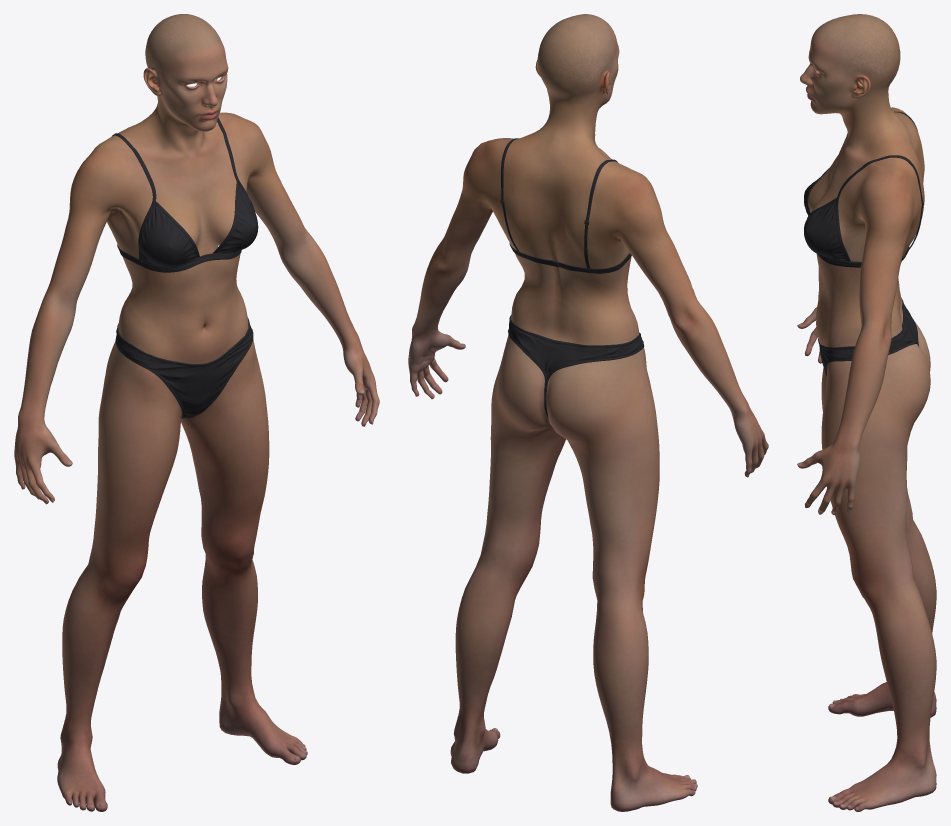
File: skin.glb
3 views of the same model, side by side, from view 1: azimuth 30°, elevation 25°; view 2: azimuth 150°, elevation 25°; view 3: azimuth 270°, elevation 25° (orthographic). The views are drawn at different scales.
Parts seen in each view (by area): view 1: Body_m, Female_Clothes_m; view 2: Body_m, Female_Clothes_m; view 3: Body_m, Female_Clothes_m.
Part boxes in pixels (x1=…): Body_m: x1=14, y1=14, x2=379, y2=811; Female_Clothes_m: x1=111, y1=117, x2=258, y2=418; Body_m: x1=408, y1=14, x2=768, y2=811; Female_Clothes_m: x1=500, y1=138, x2=644, y2=418; Body_m: x1=797, y1=14, x2=936, y2=811; Female_Clothes_m: x1=804, y1=111, x2=923, y2=376.
Size of the model in its own units: 0.8145 by 1.69 by 0.2875.
2 materials, 1 textured.
